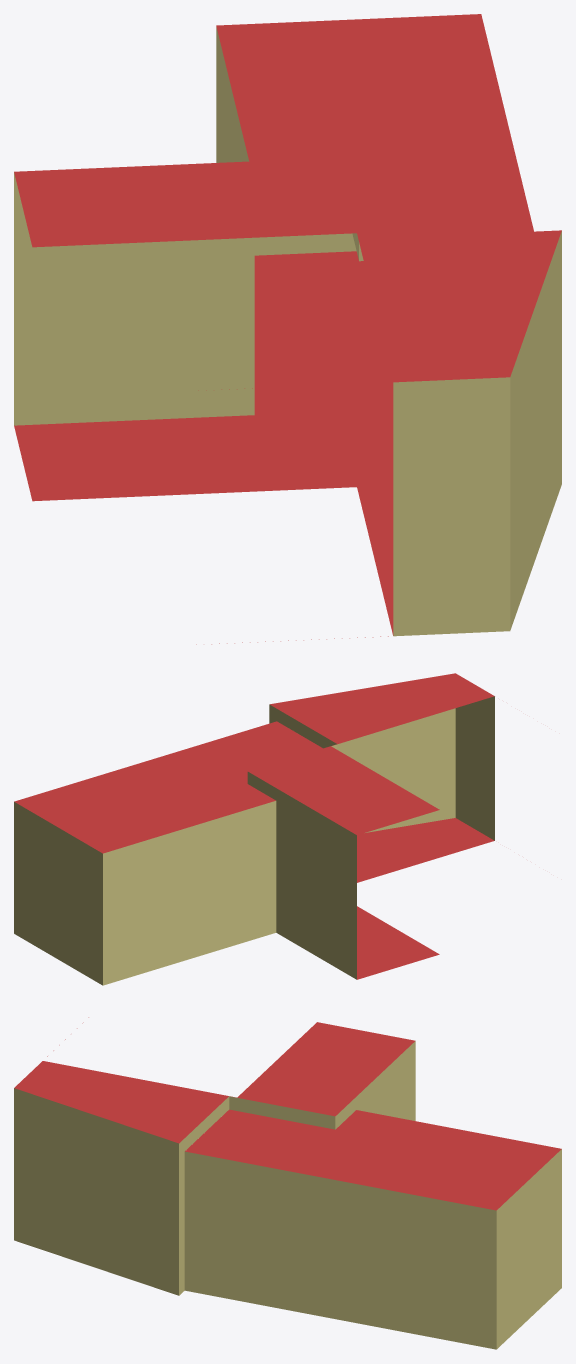
3 views of the same model, one above another, from view 1: azimuth 30°, elevation 25°; view 2: azimuth 150°, elevation 25°; view 3: azimuth 270°, elevation 25° (orthographic). The views are drawn at different scales.
Size of the model in its own units: 18.72 by 23.68 by 7.27.
